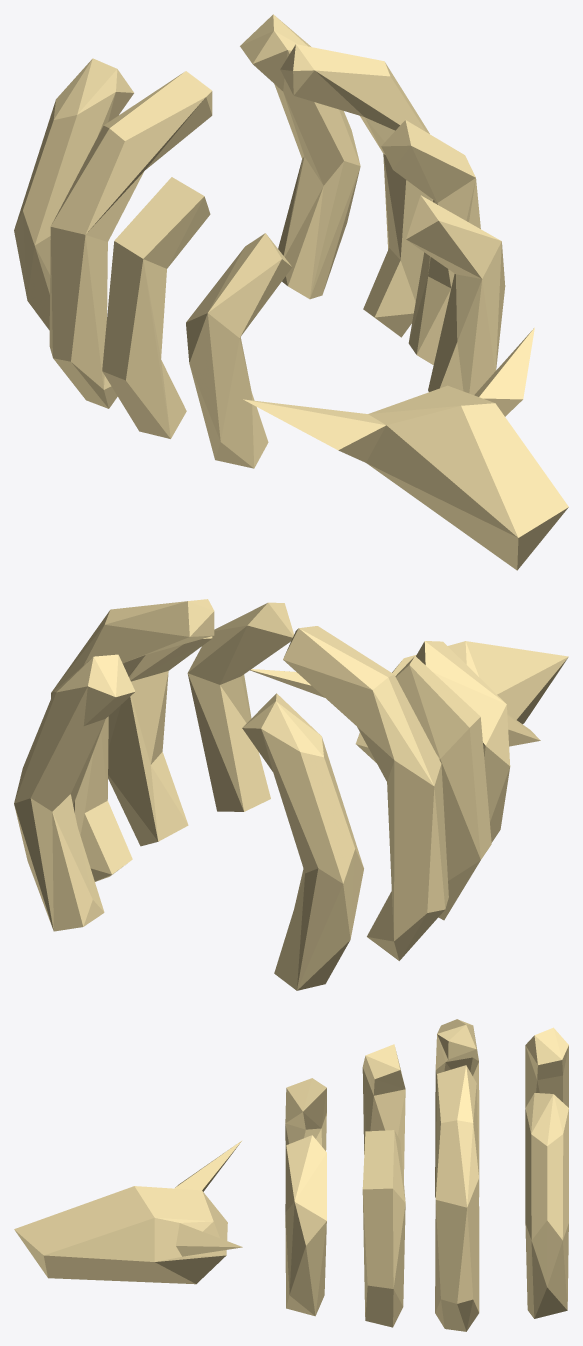
Rendered from Bones.fbx.
3 views of the same model, one above another, from view 1: azimuth 30°, elevation 25°; view 2: azimuth 150°, elevation 25°; view 3: azimuth 270°, elevation 25° (orthographic). The views are drawn at different scales.
Visible parts, largest first — view 1: Bones, Skull; view 2: Bones, Skull; view 3: Bones, Skull.
Part boxes in pixels (x1,y1,x2,y2): Bones: (14,14,505,468); Skull: (243,327,568,570); Bones: (14,599,510,990); Skull: (250,641,568,762); Bones: (285,1019,568,1331); Skull: (14,1140,242,1284).
Size of the model in its own units: 0.1833 by 0.14 by 0.3012.
1 material, 1 textured.
